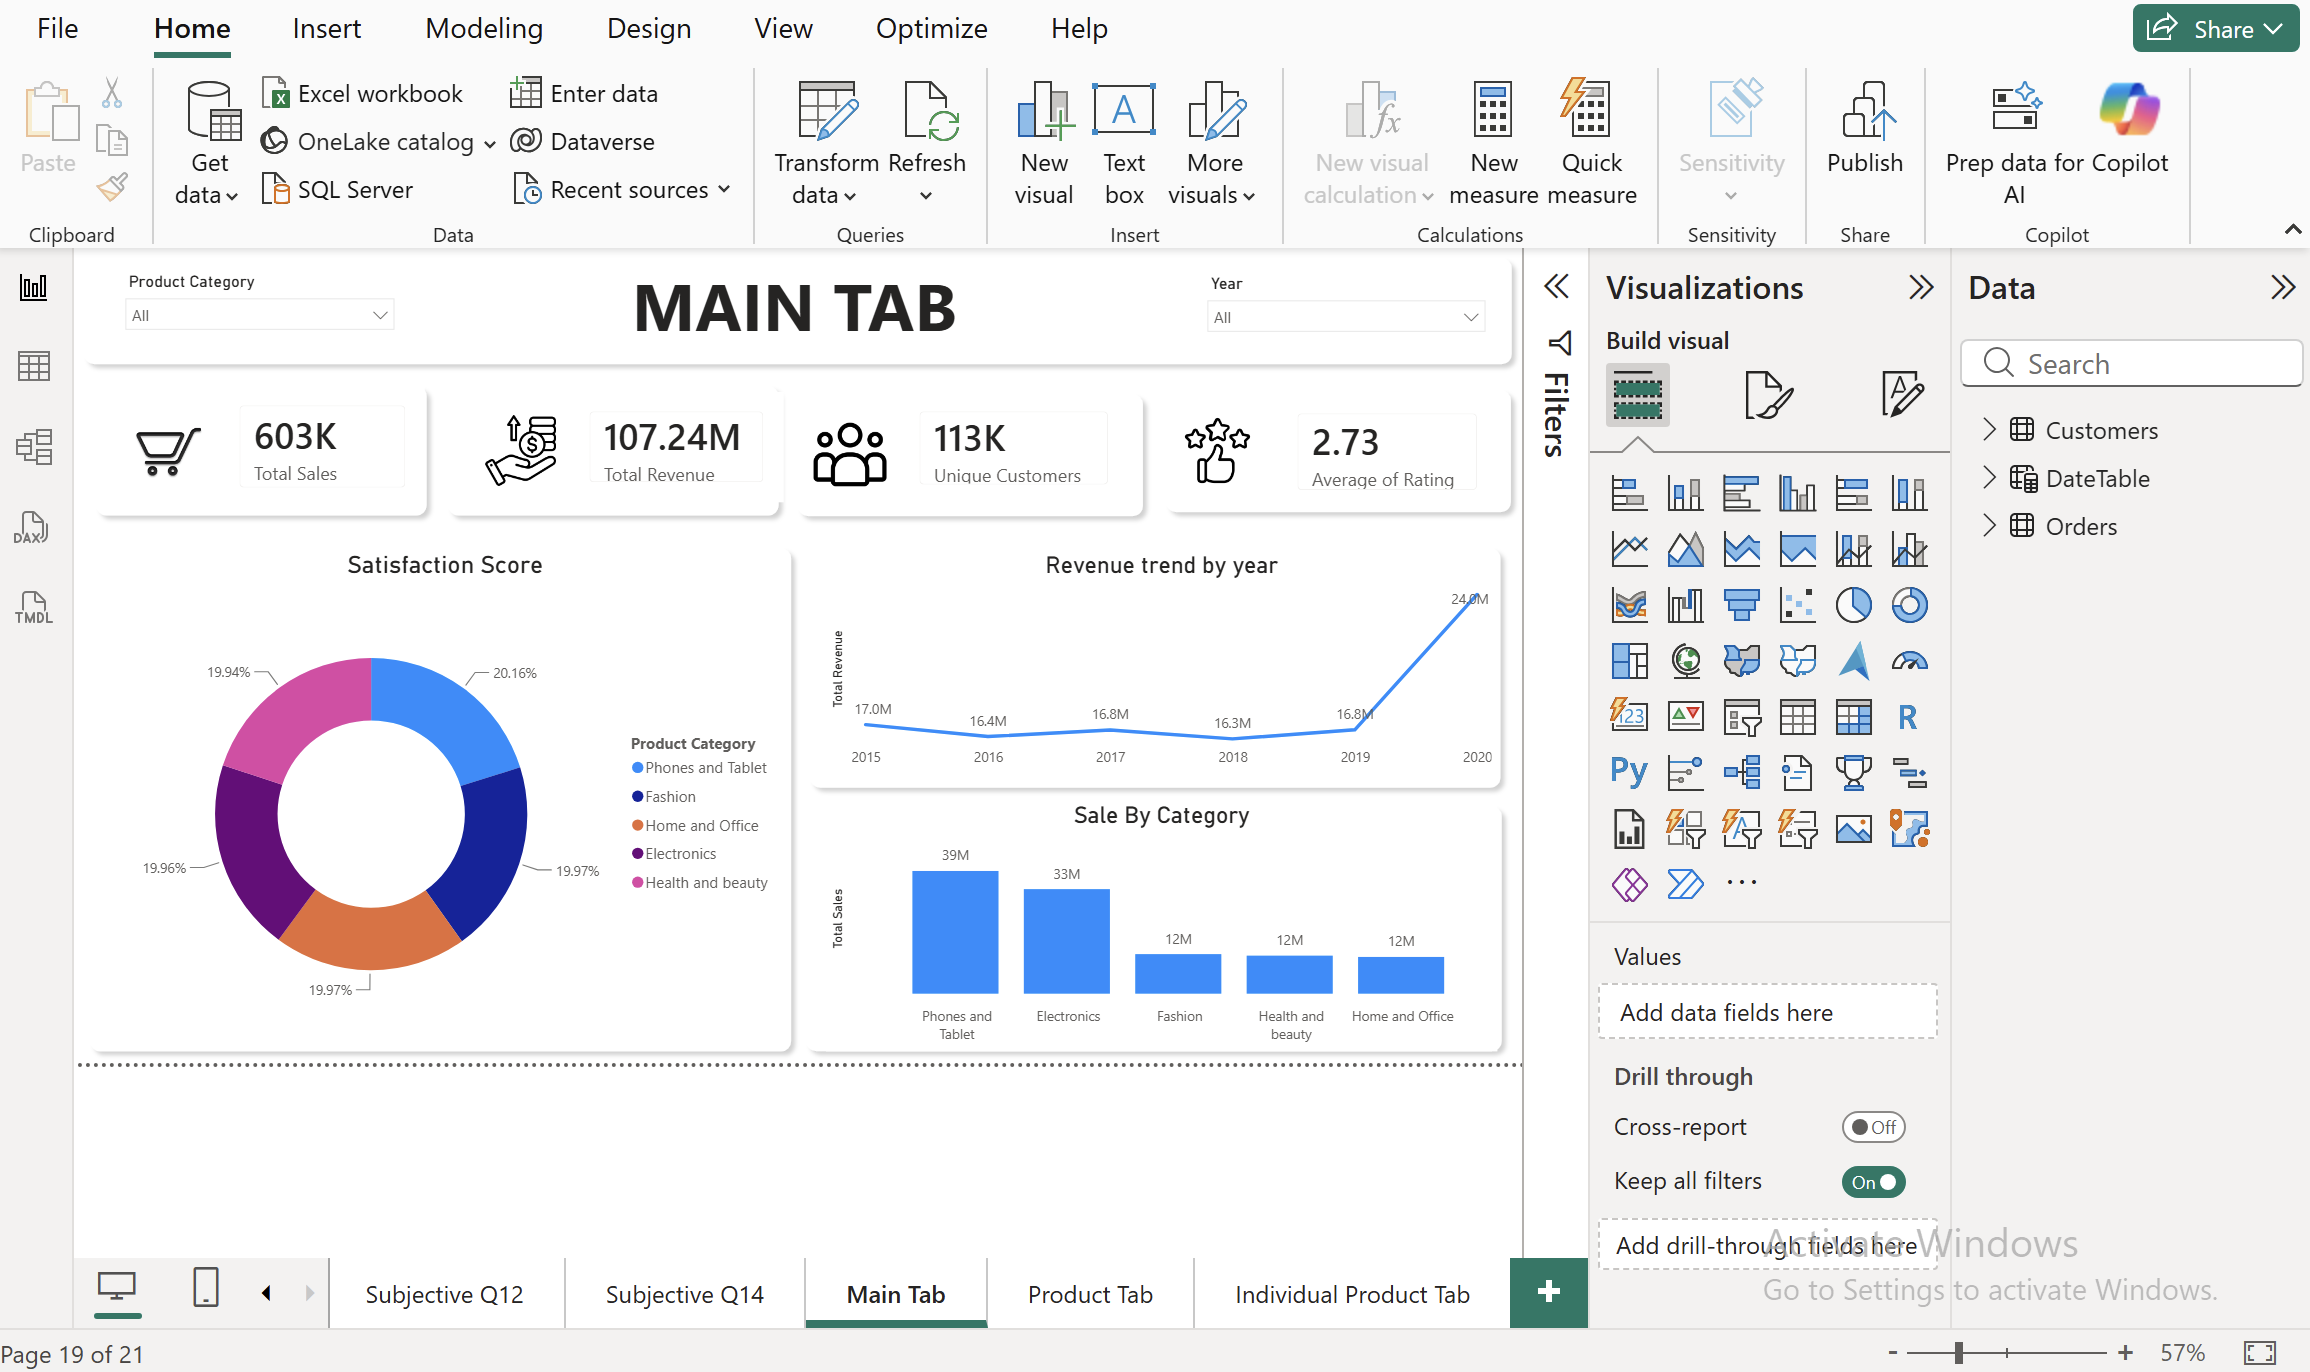

Layout of this report page (visuals, bound fields, positions):
{"tool":"powerbi","page":{"name":"Main Tab","canvas":[1280,720],"ordinal":18},"visuals":[{"type":"shape","box":[0,0,1280,111.8],"z":0},{"type":"shape","box":[11,113.4,310.2,132.3],"z":1000},{"type":"image","box":[39.4,146.4,89.7,64.6],"z":2000},{"type":"shape","box":[4.7,256.6,637.6,462.9],"z":3000},{"type":"cardVisual","fields":{"Data":["Orders.Total Purchase"]},"box":[129.7,122.1,181.1,107.1],"z":4000},{"type":"shape","box":[321.2,113.4,310.2,132.3],"z":5000},{"type":"cardVisual","fields":{"Data":["Orders.Product Revenue"]},"box":[439.3,127.5,188.9,97.6],"z":6000},{"type":"image","box":[349.5,146.4,89.7,64.6],"z":7000},{"type":"shape","box":[631.3,119.7,322.8,126],"z":8000},{"type":"image","box":[642.4,151.1,88.2,64.6],"z":9000},{"type":"cardVisual","fields":{"Data":["Orders.Unique Customers"]},"box":[730.5,127.5,201.5,99.2],"z":10000},{"type":"shape","box":[957.2,116.5,322.8,126],"z":11000},{"type":"image","box":[971.4,146.4,80.3,64.6],"z":12000},{"type":"cardVisual","fields":{"Data":["Avg(Orders.Rating)"]},"box":[1064.3,129.1,193.7,102.3],"z":13000},{"type":"shape","box":[642.4,256.6,628.2,229.9],"z":14000},{"type":"lineChart","title":" Revenue trend by year","fields":{"Category":["DateTable.Year"],"Y":["Orders.Product Revenue"]},"box":[664.4,269.2,593.6,200],"z":15000},{"type":"slicer","fields":{"Values":["Orders.Product Category"]},"box":[36.2,15.7,258.2,75.6],"z":16000},{"type":"slicer","fields":{"Values":["DateTable.Year"]},"box":[991.9,17.3,266.1,78.7],"z":17000},{"type":"textbox","box":[453.1,6.1,368.4,94.5],"z":18000},{"type":"shape","box":[637.6,484.9,632.9,234.6],"z":19000},{"type":"donutChart","title":"Satisfaction Score","fields":{"Category":["Orders.Product Category"],"Y":["Avg(Orders.Rating)"]},"box":[28.3,267.7,599.9,442.4],"z":20000},{"type":"clusteredColumnChart","title":"Sale By Category","fields":{"Category":["Orders.Product Category"],"Y":["Orders.Total Sales"]},"box":[664.4,489.6,593.6,220.4],"z":21000}]}

Visuals, with their boxes on the page's 1280x720 design canvas (x1, y1, x2, y2). These are canvas units, not pixel positions in the 2310x1372 screenshot, which may show the page scaled, cropped or inside an application window:
shape: Rect(0, 0, 1280, 112)
shape: Rect(11, 113, 321, 246)
image: Rect(39, 146, 129, 211)
shape: Rect(5, 257, 642, 720)
cardVisual - Orders.Total Purchase: Rect(130, 122, 311, 229)
shape: Rect(321, 113, 631, 246)
cardVisual - Orders.Product Revenue: Rect(439, 128, 628, 225)
image: Rect(350, 146, 439, 211)
shape: Rect(631, 120, 954, 246)
image: Rect(642, 151, 731, 216)
cardVisual - Orders.Unique Customers: Rect(730, 128, 932, 227)
shape: Rect(957, 116, 1280, 242)
image: Rect(971, 146, 1052, 211)
cardVisual - Avg(Orders.Rating): Rect(1064, 129, 1258, 231)
shape: Rect(642, 257, 1271, 486)
" Revenue trend by year" lineChart: Rect(664, 269, 1258, 469)
slicer - Orders.Product Category: Rect(36, 16, 294, 91)
slicer - DateTable.Year: Rect(992, 17, 1258, 96)
textbox: Rect(453, 6, 822, 101)
shape: Rect(638, 485, 1270, 720)
"Satisfaction Score" donutChart: Rect(28, 268, 628, 710)
"Sale By Category" clusteredColumnChart: Rect(664, 490, 1258, 710)
